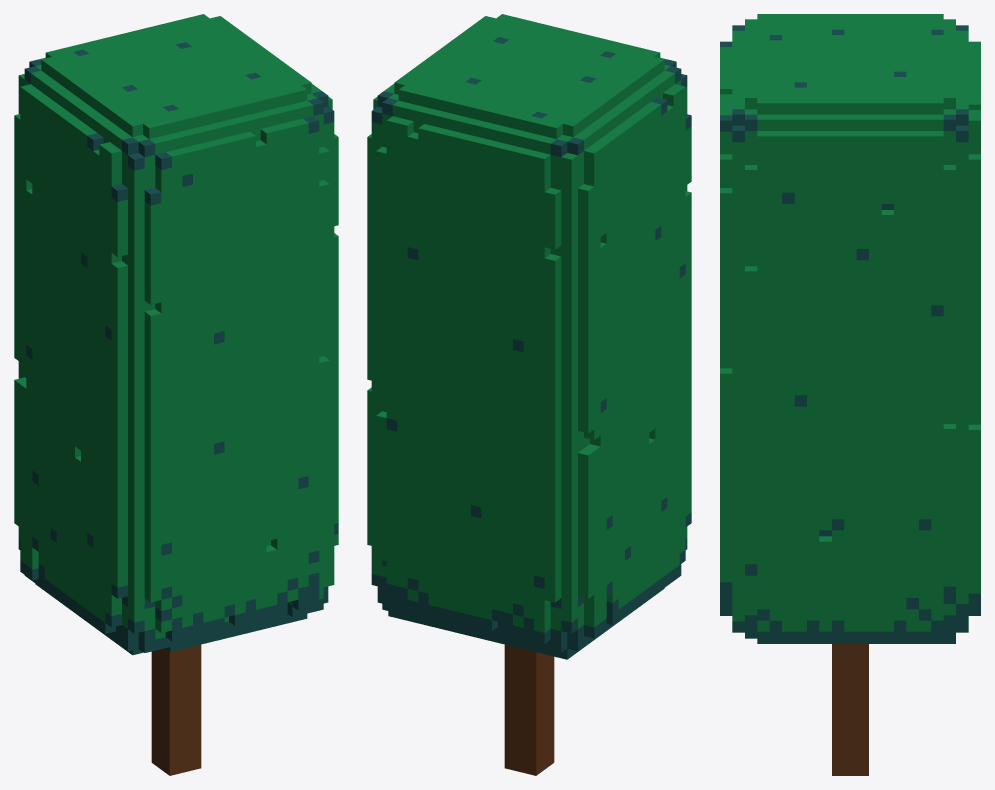
File: HedgeTreeTall.fbx
3 views of the same model, side by side, from view 1: azimuth 30°, elevation 25°; view 2: azimuth 150°, elevation 25°; view 3: azimuth 270°, elevation 25° (orthographic). The views are drawn at different scales.
Visible parts, largest first — view 1: HedgeTreeTall; view 2: HedgeTreeTall; view 3: HedgeTreeTall.
Part boxes in pixels (bbox=[...]): HedgeTreeTall: bbox=[14, 14, 338, 775]; HedgeTreeTall: bbox=[367, 14, 691, 775]; HedgeTreeTall: bbox=[720, 14, 980, 775].
Size of the model in its own units: 210 by 630 by 210.
